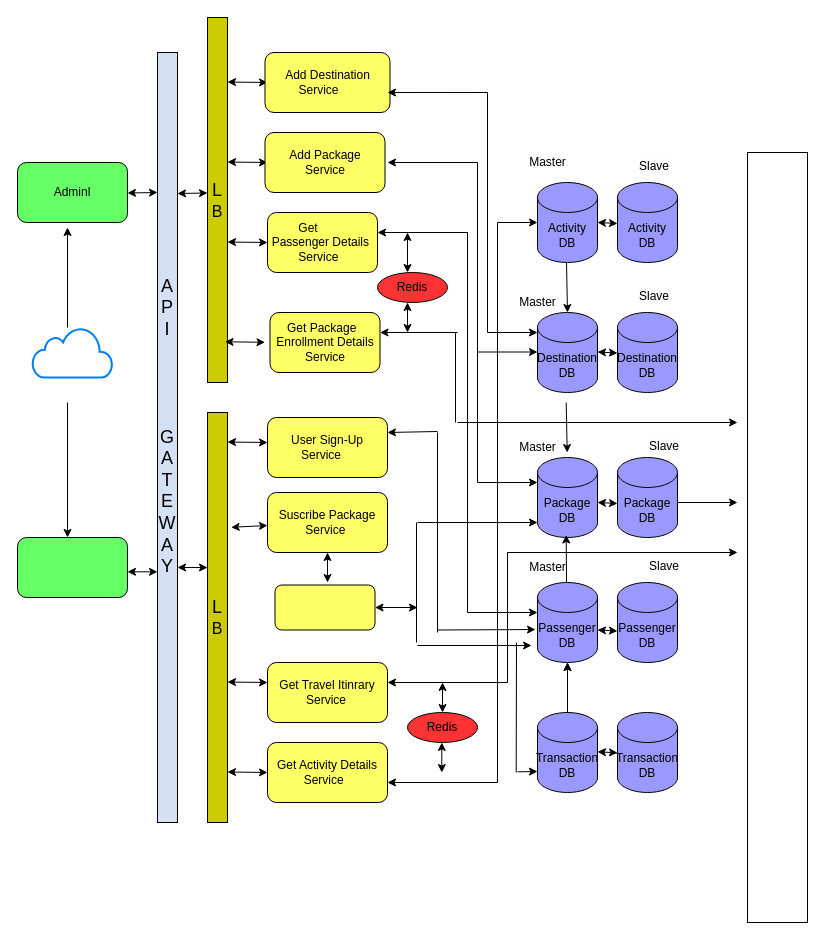
This 825x940 diagram has some shape labels left out. The box of each missing label's shape, as (x1, y1, x2, y2) in pixels:
CDN: (31, 326, 113, 378)
K A F K A B R O C K E R: (746, 152, 808, 922)
Non-Admin: (16, 536, 128, 598)
Transaction Service: (274, 584, 375, 630)
